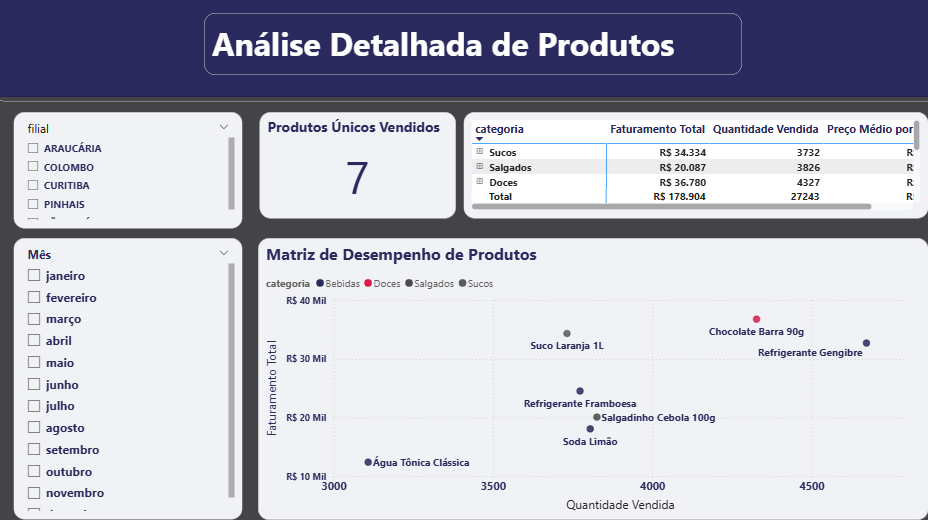

The dashboard page shown, as its layout file describes it:
{"tool":"powerbi","page":{"name":"Análise de Produtos","canvas":[1280,720],"ordinal":2},"visuals":[{"type":"group","id":"g1","title":"Grupo 1","box":[0,0,1600,150],"z":0},{"type":"card","title":"Produtos Únicos Vendidos","fields":{"Values":["Count(Dim_produto.id_produto)"]},"box":[353.3,163.3,261.7,141.7],"z":1000},{"type":"pivotTable","fields":{"Rows":["Dim_produto.categoria","Dim_produto.nome_produto"],"Values":["_medidas.Faturamento Total","_medidas.Quantidade Vendida","_medidas.Preço Médio por Item"]},"box":[626.7,163.3,620,141.7],"z":2000},{"type":"scatterChart","title":"Matriz de Desempenho de Produtos","fields":{"Category":["Dim_produto.nome_produto"],"X":["_medidas.Quantidade Vendida"],"Y":["_medidas.Faturamento Total"],"Series":["Dim_produto.categoria"]},"box":[352.7,331.3,894,376],"z":3000},{"type":"slicer","fields":{"Values":["Dim_Data.Mês"]},"box":[25,332.5,305,375],"z":4000},{"type":"slicer","fields":{"Values":["Dim_filiais.filial"]},"box":[25,163.8,305,155],"z":5000},{"type":"shape","box":[0,0,1600,150],"z":6000,"group":"g1"},{"type":"textbox","box":[280,32.5,717.5,82.5],"z":7000,"group":"g1"}]}

Visuals, with their boxes in screenshot pixels (x1, y1, x2, y2), scaled from the page's 1280x720 canvas onto the 928x520 screenshot:
"Grupo 1" group: <box>0,0,927,108</box>
"Produtos Únicos Vendidos" card: <box>256,118,446,220</box>
pivotTable - Dim_produto.categoria x Dim_produto.nome_produto: <box>454,118,904,220</box>
"Matriz de Desempenho de Produtos" scatterChart: <box>256,239,904,511</box>
slicer - Dim_Data.Mês: <box>18,240,239,511</box>
slicer - Dim_filiais.filial: <box>18,118,239,230</box>
shape: <box>0,0,927,108</box>
textbox: <box>203,23,723,83</box>
